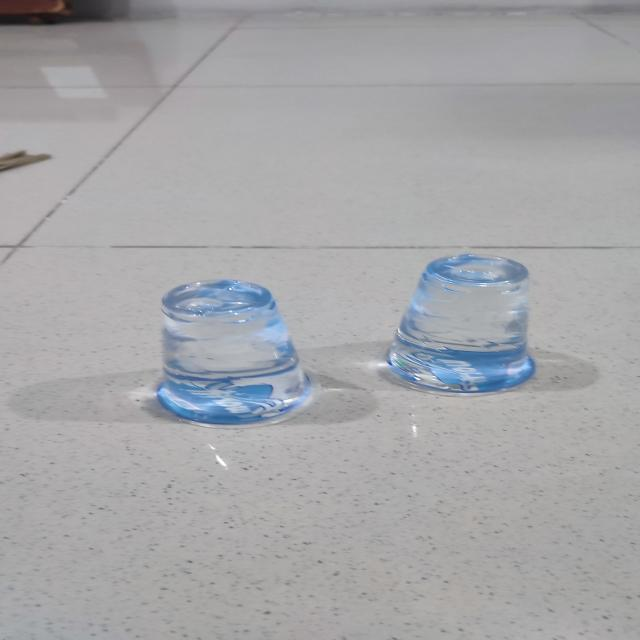air gelas: (136, 268, 319, 430), (368, 250, 566, 397)
